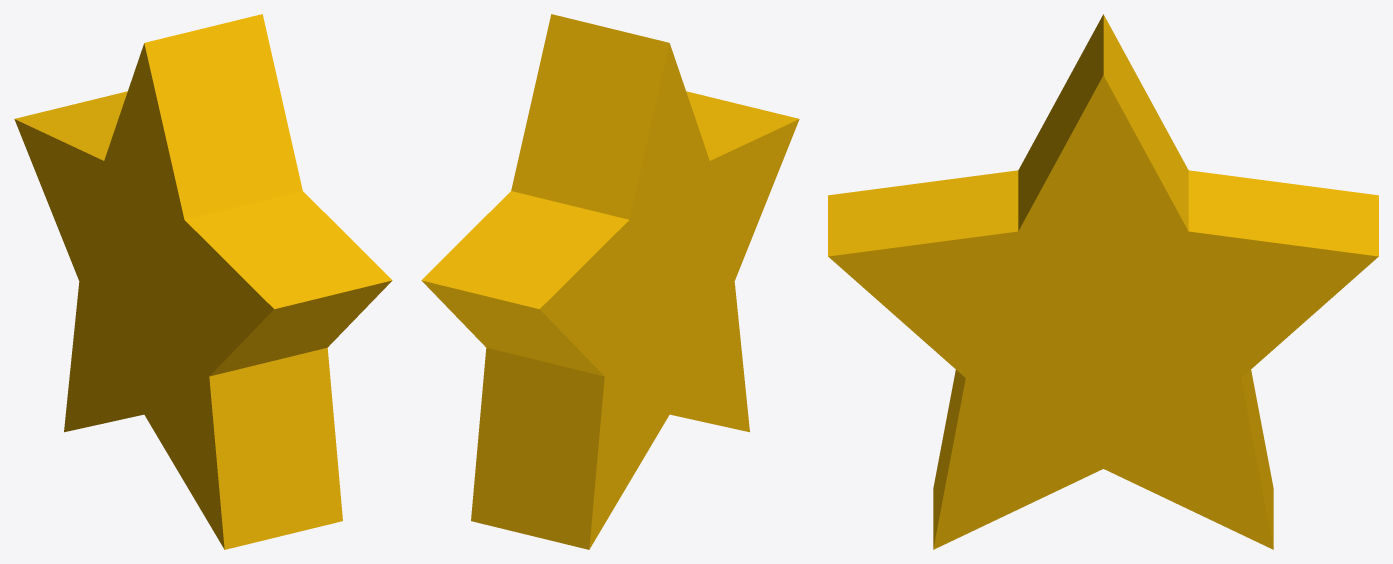
The model's file is light.obj.
3 views of the same model, side by side, from view 1: azimuth 30°, elevation 25°; view 2: azimuth 150°, elevation 25°; view 3: azimuth 270°, elevation 25° (orthographic). The views are drawn at different scales.
Parts seen in each view (by area): view 1: Star; view 2: Star; view 3: Star.
Boxes of the visible parts, x1=… form: Star: x1=14, y1=14, x2=392, y2=549; Star: x1=421, y1=14, x2=799, y2=549; Star: x1=828, y1=14, x2=1378, y2=549.
Bounding box in the file's own units: 0.5 × 1.81 × 1.9.
1 material, 1 textured.
